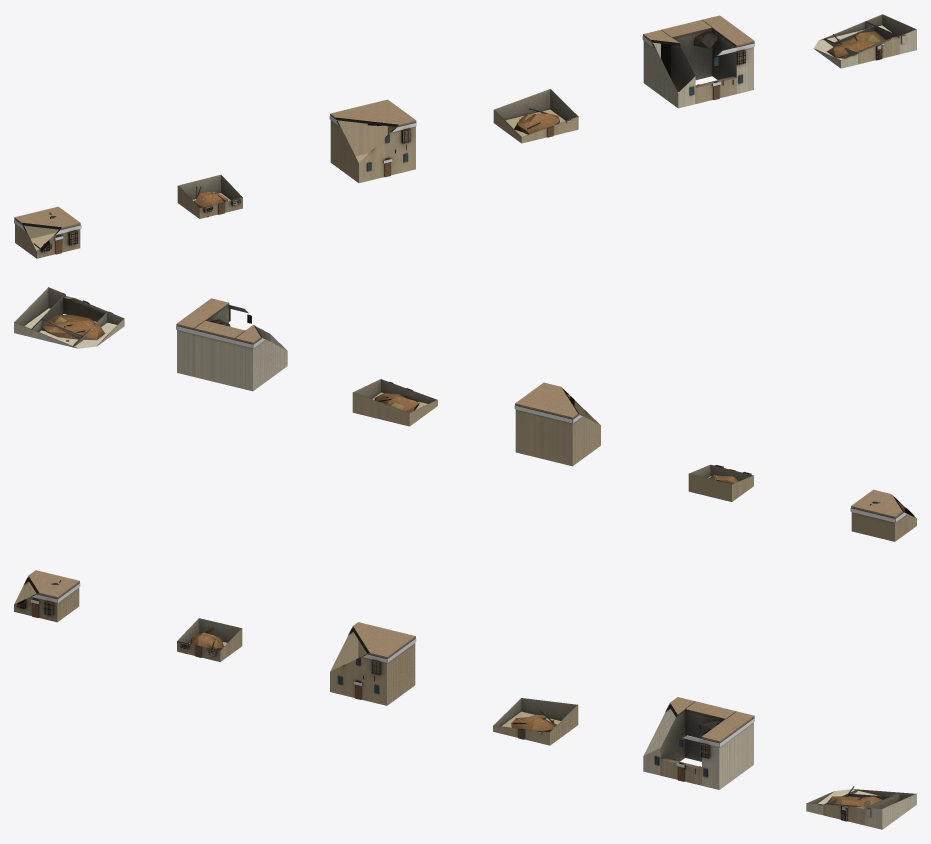
Rendered from kingdoms-nile-houses-damage.glb.
3 views of the same model, one above another, from view 1: azimuth 30°, elevation 25°; view 2: azimuth 150°, elevation 25°; view 3: azimuth 330°, elevation 25° (orthographic).
Visible parts, largest first — view 1: LOD0.004, LOD0.002, LOD0.005, LOD0.003, LOD0, LOD0.001; view 2: LOD0.004, LOD0.002, LOD0.005, LOD0.003, LOD0, LOD0.001; view 3: LOD0.004, LOD0.002, LOD0.005, LOD0.003, LOD0, LOD0.001.
Boxes of the visible parts, left/top/right/bottom form: LOD0.004: left=642, top=15, right=754, bottom=108; LOD0.002: left=329, top=99, right=416, bottom=182; LOD0.005: left=813, top=14, right=916, bottom=68; LOD0.003: left=493, top=89, right=578, bottom=143; LOD0: left=14, top=206, right=81, bottom=258; LOD0.001: left=177, top=174, right=242, bottom=218; LOD0.004: left=176, top=298, right=287, bottom=391; LOD0.002: left=514, top=382, right=600, bottom=466; LOD0.005: left=14, top=287, right=124, bottom=348; LOD0.003: left=352, top=379, right=437, bottom=426; LOD0: left=850, top=489, right=916, bottom=541; LOD0.001: left=688, top=464, right=753, bottom=501; LOD0.004: left=643, top=697, right=754, bottom=789; LOD0.002: left=330, top=622, right=416, bottom=705; LOD0.005: left=806, top=786, right=916, bottom=829; LOD0.003: left=493, top=698, right=578, bottom=745; LOD0: left=14, top=570, right=80, bottom=622; LOD0.001: left=177, top=618, right=242, bottom=661.
Size of what is drawn, in the model's own units: 16.11 by 0.8672 by 1.17.
Materials: 2 (2 with a texture image).
